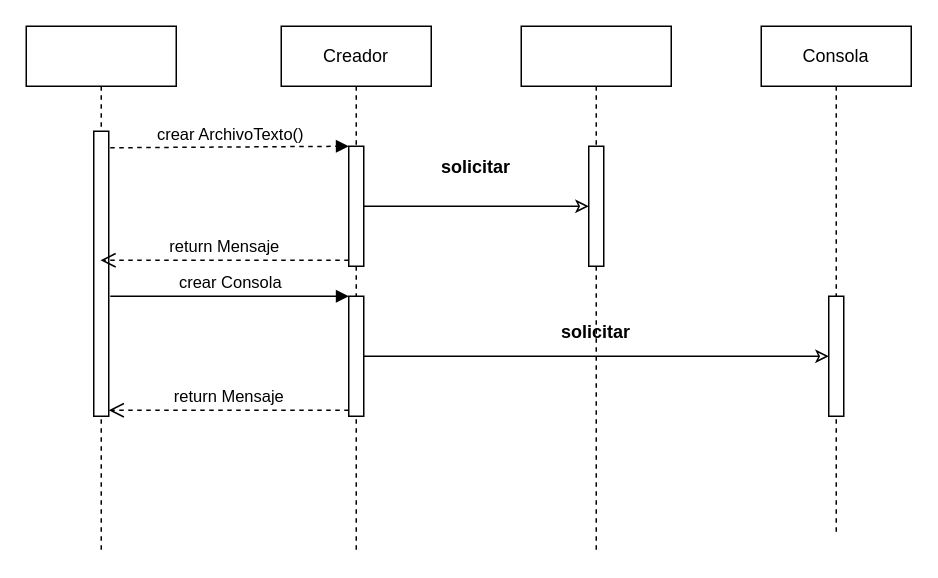
Some shapes in this 938 by 578 pixel diagram are drawn without their labels. The shapes that lost their labels are listed below. From the top down, each one's box as (x1, y1, x2, y2) in pixels, then its label:
(25, 25, 176, 551): Usuario
(520, 25, 671, 551): Archivo Texto
